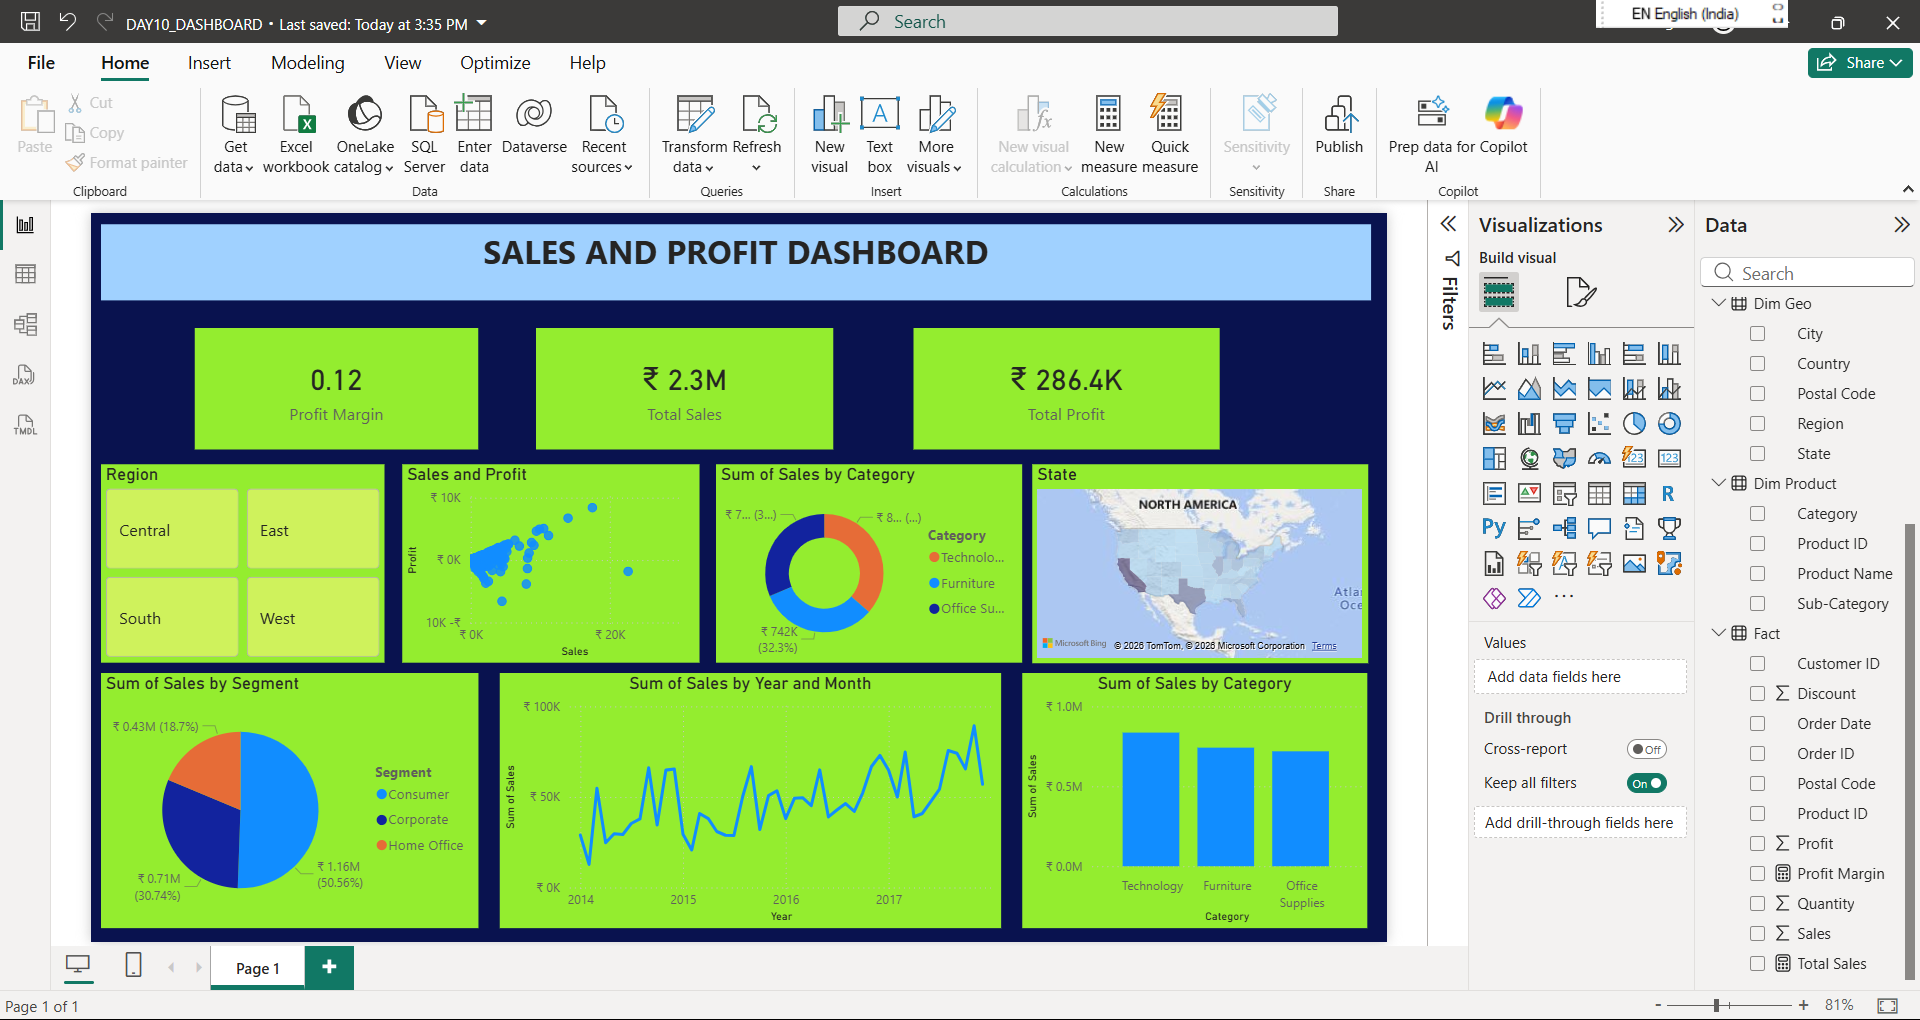

This screenshot's page, from the dashboard's own definition file:
{"tool":"powerbi","page":{"name":"Page 1","canvas":[1280,720],"ordinal":0},"visuals":[{"type":"pieChart","fields":{"Category":["Dim customer.Segment"],"Y":["Sum(Fact.Sales)"]},"box":[9.9,454.3,372.8,251.9],"z":0},{"type":"columnChart","fields":{"Category":["Dim Product.Category"],"Y":["Sum(Fact.Sales)"]},"box":[919.8,454.3,340.7,251.9],"z":1000},{"type":"lineChart","fields":{"Y":["Sum(Fact.Sales)"],"Category":["Date.Order Date.Variation.Date Hierarchy.Year","Date.Order Date.Variation.Date Hierarchy.Month"]},"box":[403.7,454.3,495.1,251.9],"z":2000},{"type":"card","fields":{"Values":["Fact.Total Sales"]},"box":[13.3,113.4,294.4,119.4],"z":3000},{"type":"card","fields":{"Values":["Date.Total Profit"]},"box":[326.7,114.6,302.8,119.4],"z":4000},{"type":"card","fields":{"Values":["Fact.Profit Margin"]},"box":[649.1,113.4,292,119.4],"z":5000},{"type":"advancedSlicerVisual","fields":{"Values":["Dim Geo.Region"]},"box":[9.9,248.1,280.2,196.3],"z":6000},{"type":"scatterChart","fields":{"X":["Fact.Sales"],"Y":["Fact.Profit"]},"box":[307.4,248.1,293.8,196.3],"z":7000},{"type":"donutChart","fields":{"Category":["Dim Product.Category"],"Y":["Sum(Fact.Sales)"]},"box":[617.3,248.1,302.5,196.3],"z":8000},{"type":"filledMap","fields":{"Category":["Dim Geo.State"]},"box":[929.6,248.1,330.9,196.3],"z":9000},{"type":"textbox","box":[9.9,11.1,1254.3,75.3],"z":10000},{"type":"card","fields":{"Values":["CountNonNull(Fact.Order ID)"]},"box":[960.3,113.4,299.2,119.4],"z":10002}]}

Visuals, with their boxes on the page's 1280x720 design canvas (x1, y1, x2, y2). These are canvas units, not pixel positions in the 1920x1020 screenshot, which may show the page scaled, cropped or inside an application window:
pieChart - Dim customer.Segment x Sum(Fact.Sales): box=[10, 454, 383, 706]
columnChart - Dim Product.Category x Sum(Fact.Sales): box=[920, 454, 1260, 706]
lineChart - Sum(Fact.Sales) x Date.Order Date.Variation.Date Hierarchy.Year: box=[404, 454, 899, 706]
card - Fact.Total Sales: box=[13, 113, 308, 233]
card - Date.Total Profit: box=[327, 115, 630, 234]
card - Fact.Profit Margin: box=[649, 113, 941, 233]
advancedSlicerVisual - Dim Geo.Region: box=[10, 248, 290, 444]
scatterChart - Fact.Sales x Fact.Profit: box=[307, 248, 601, 444]
donutChart - Dim Product.Category x Sum(Fact.Sales): box=[617, 248, 920, 444]
filledMap - Dim Geo.State: box=[930, 248, 1260, 444]
textbox: box=[10, 11, 1264, 86]
card - CountNonNull(Fact.Order ID): box=[960, 113, 1260, 233]
